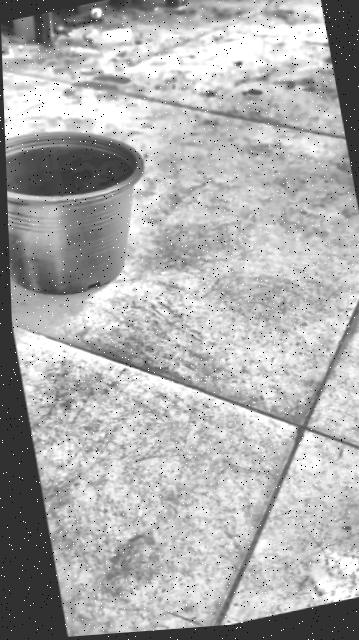pot: (4, 109, 164, 306)
